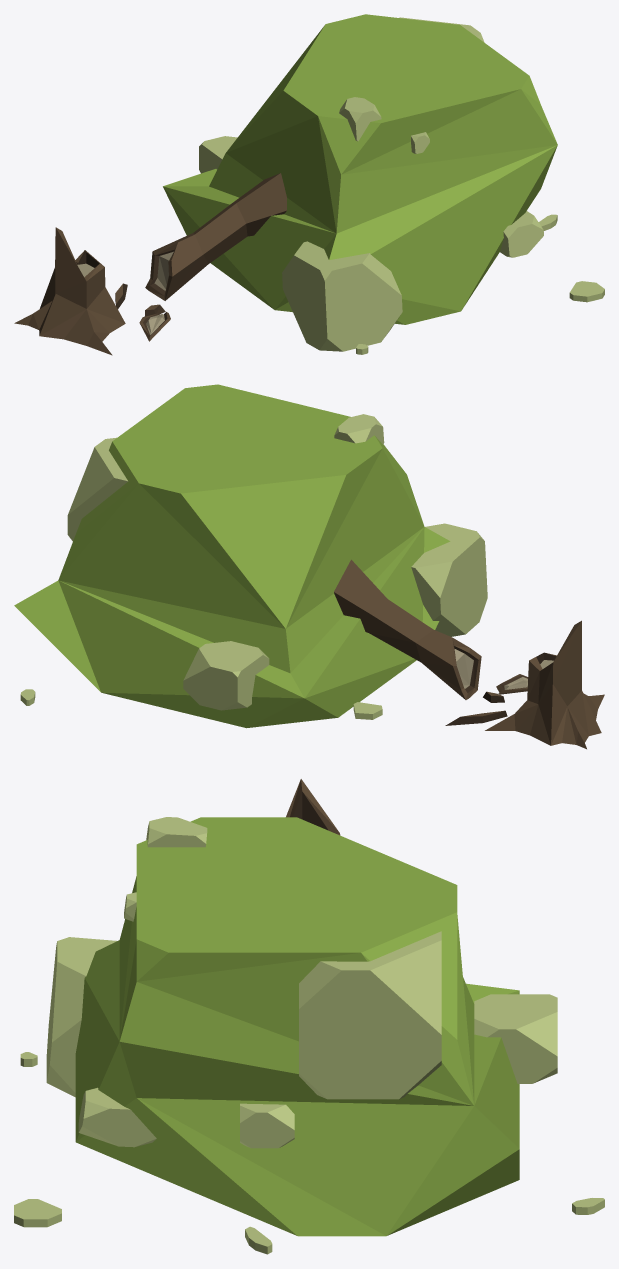
Rendered from Tree_D_04.FBX.
3 views of the same model, one above another, from view 1: azimuth 30°, elevation 25°; view 2: azimuth 150°, elevation 25°; view 3: azimuth 270°, elevation 25° (orthographic). The views are drawn at different scales.
Visible parts, largest first — view 1: Tree_D_04; view 2: Tree_D_04; view 3: Tree_D_04.
Part boxes in pixels (box(x1,y1,x2,y2)): Tree_D_04: box(14, 14, 604, 355); Tree_D_04: box(14, 384, 604, 749); Tree_D_04: box(14, 779, 604, 1254).
Bounding box in the file's own units: 4.79 × 1.83 × 3.44.
